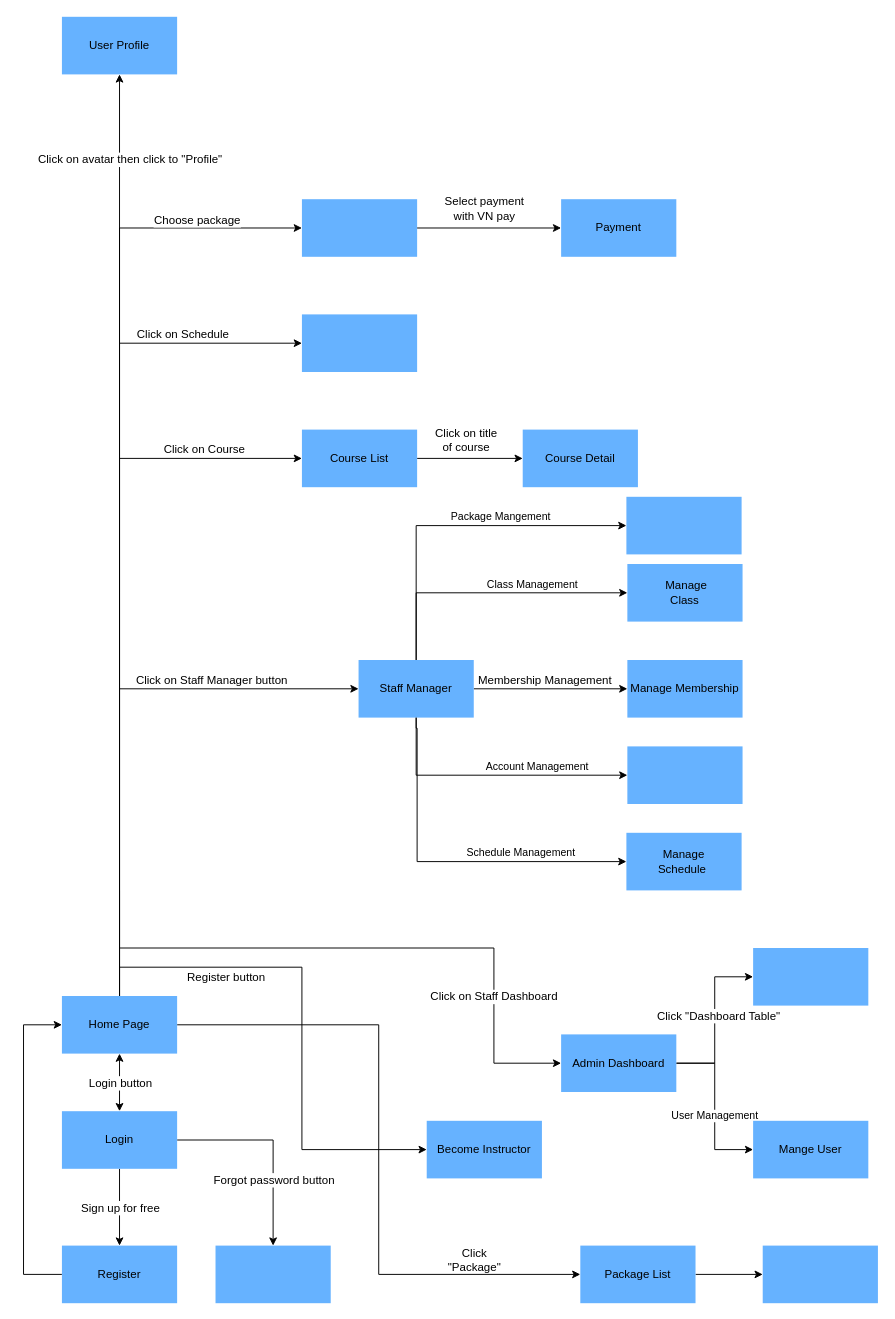
Some shapes in this 895 by 1319 pixel diagram are drawn without their labels. Each missing label, with the centre of its shape:
"Checkout" belongs at pixel 359 227.
"Dashboard Table" belongs at pixel 810 976.
"Forgot Password" belongs at pixel 272 1274.
"Manage Account" belongs at pixel 684 775.
"Manage Package" belongs at pixel 683 525.
"Package Detail" belongs at pixel 819 1274.
"View Schedule" belongs at pixel 359 343.
